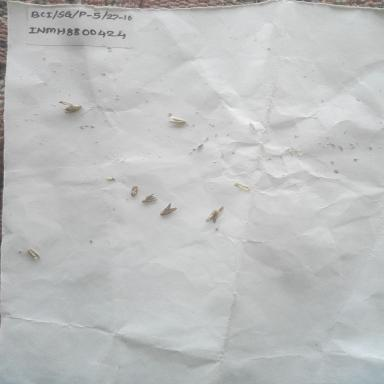pbw: (25, 241, 47, 271), (164, 111, 191, 135), (197, 203, 226, 225), (157, 202, 183, 220), (57, 100, 83, 115), (140, 192, 159, 205), (130, 184, 140, 198)
